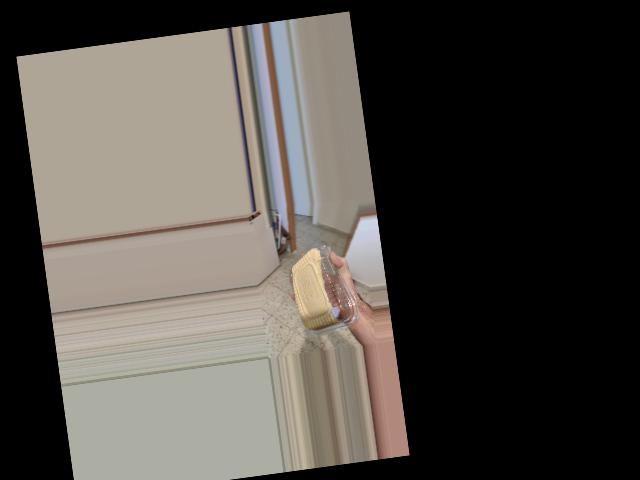cheese: (298, 262, 345, 342)
